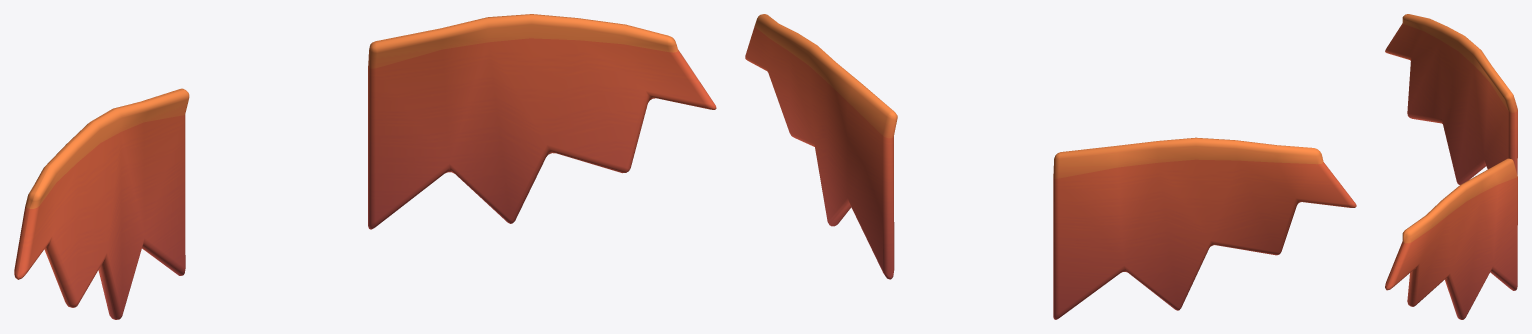
The model's file is Attach_Wings.fbx.
The picture shows the model from 3 angles, left to right: view 1: azimuth 30°, elevation 25°; view 2: azimuth 150°, elevation 25°; view 3: azimuth 270°, elevation 25°; orthographic projection. The views are drawn at different scales.
Parts seen in each view (by area): view 1: Attach_Wings; view 2: Attach_Wings; view 3: Attach_Wings.
Part boxes in pixels (bbox=[...]): Attach_Wings: bbox=[14, 14, 716, 319]; Attach_Wings: bbox=[745, 14, 1356, 319]; Attach_Wings: bbox=[1385, 14, 1517, 319].
Size of the model in its own units: 2.97 by 0.6983 by 0.858.
